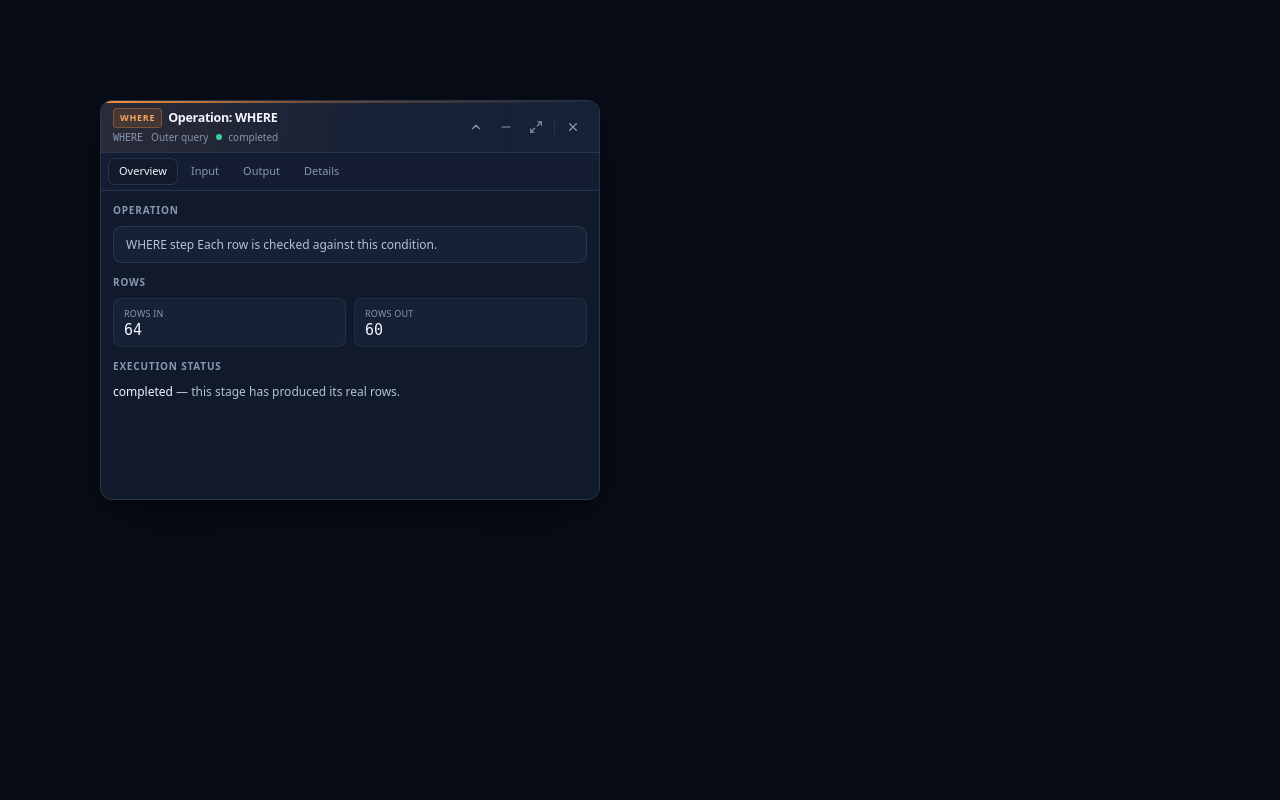
FloatingNodeInspector › paginates a large result instead of rendering every row
Click the tab "Output". click: (261, 171)
box: [233,159,290,184]
(page scrolled)
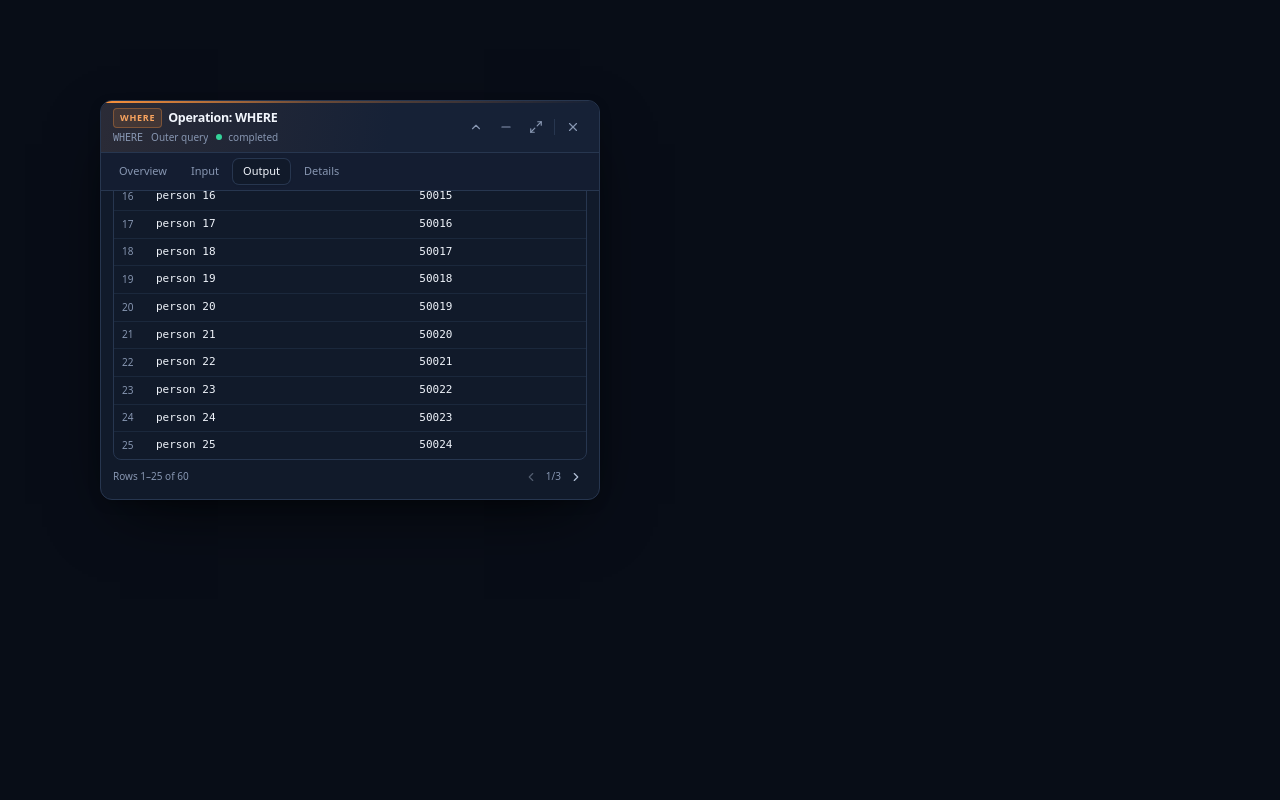
Check: the text "Rows 1–25 of 60" is shown, box [113,469,189,484]
Click the button named "Next rows". click: (576, 477)
box: [565,466,587,488]
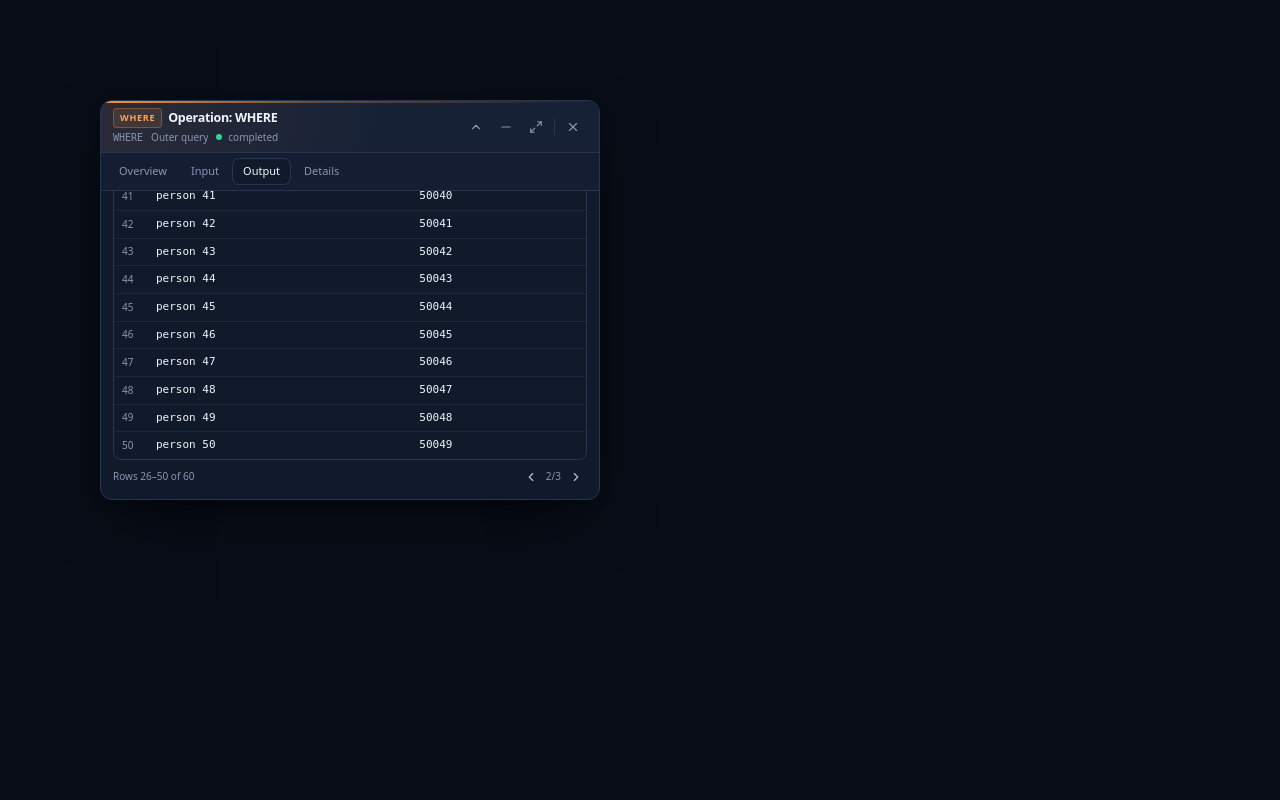
Check: the text "Rows 26–50 of 60" is shown, box [113,469,194,484]
Click the button named "Next rows". click: (576, 477)
box: [565,466,587,488]
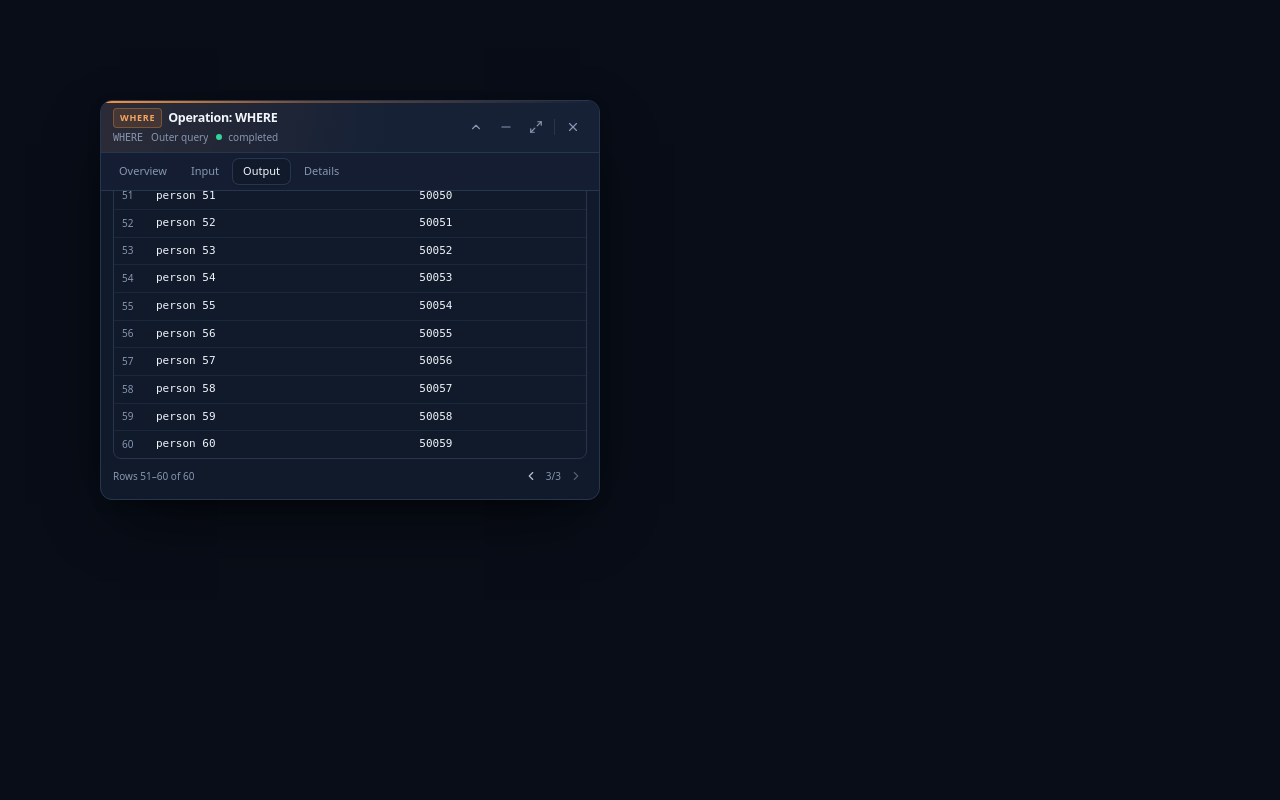
Check: the text "Rows 51–60 of 60" is shown, box [113,469,194,484]
Check: the button named "Next rows" is disabled, box [565,465,587,487]
